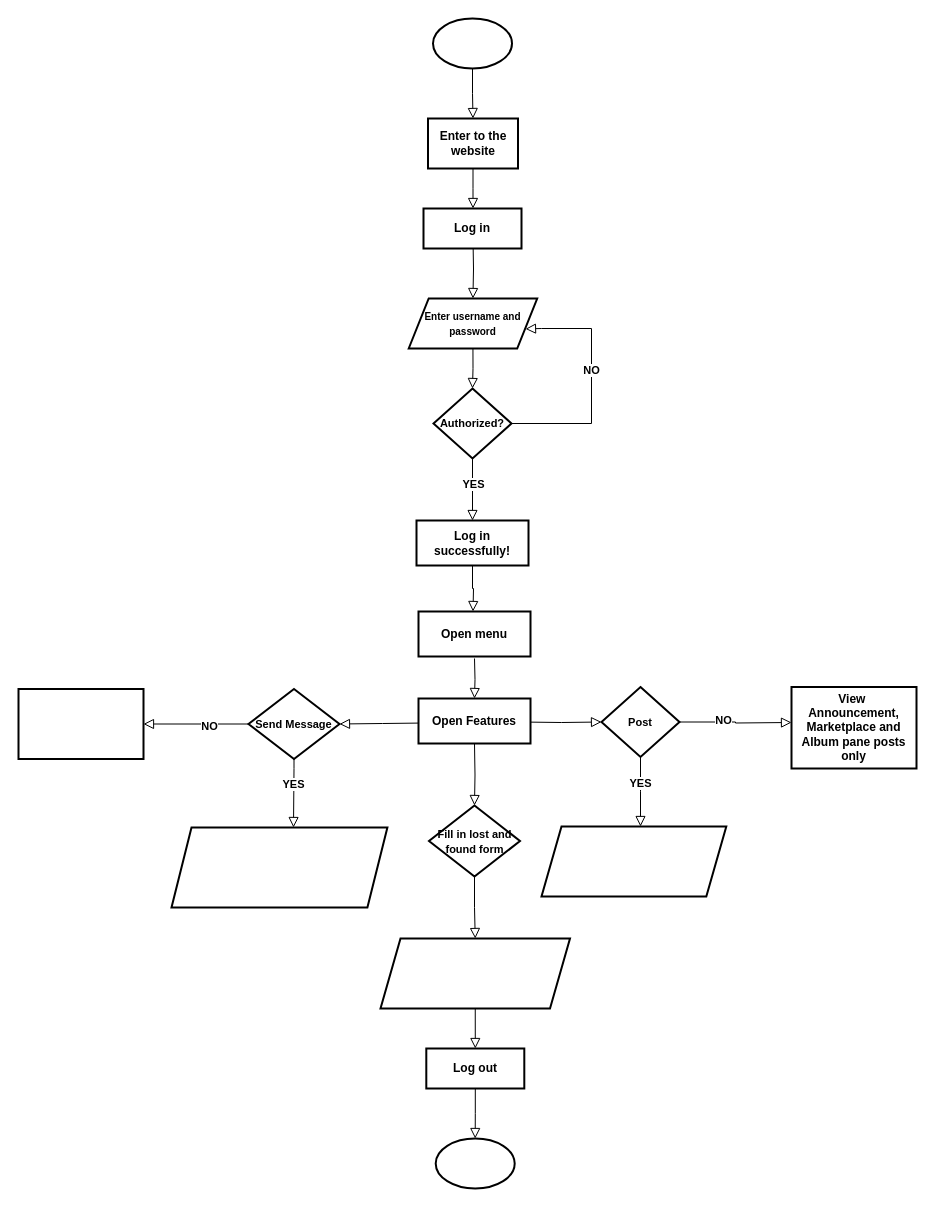
This 934x1206 diagram has some shape labels left out. Each missing label, with the centre of its shape:
"End" goes at point (474, 1163).
"Enter group chat and view conversation only" goes at point (80, 724).
"Enter Group chat then start a conversation" goes at point (279, 867).
"Fill required empty fields in lost and found form" goes at point (474, 973).
"Start" goes at point (472, 43).
"Upload/Create content in Announcement, Marketplace and Album pane" goes at point (633, 861).
